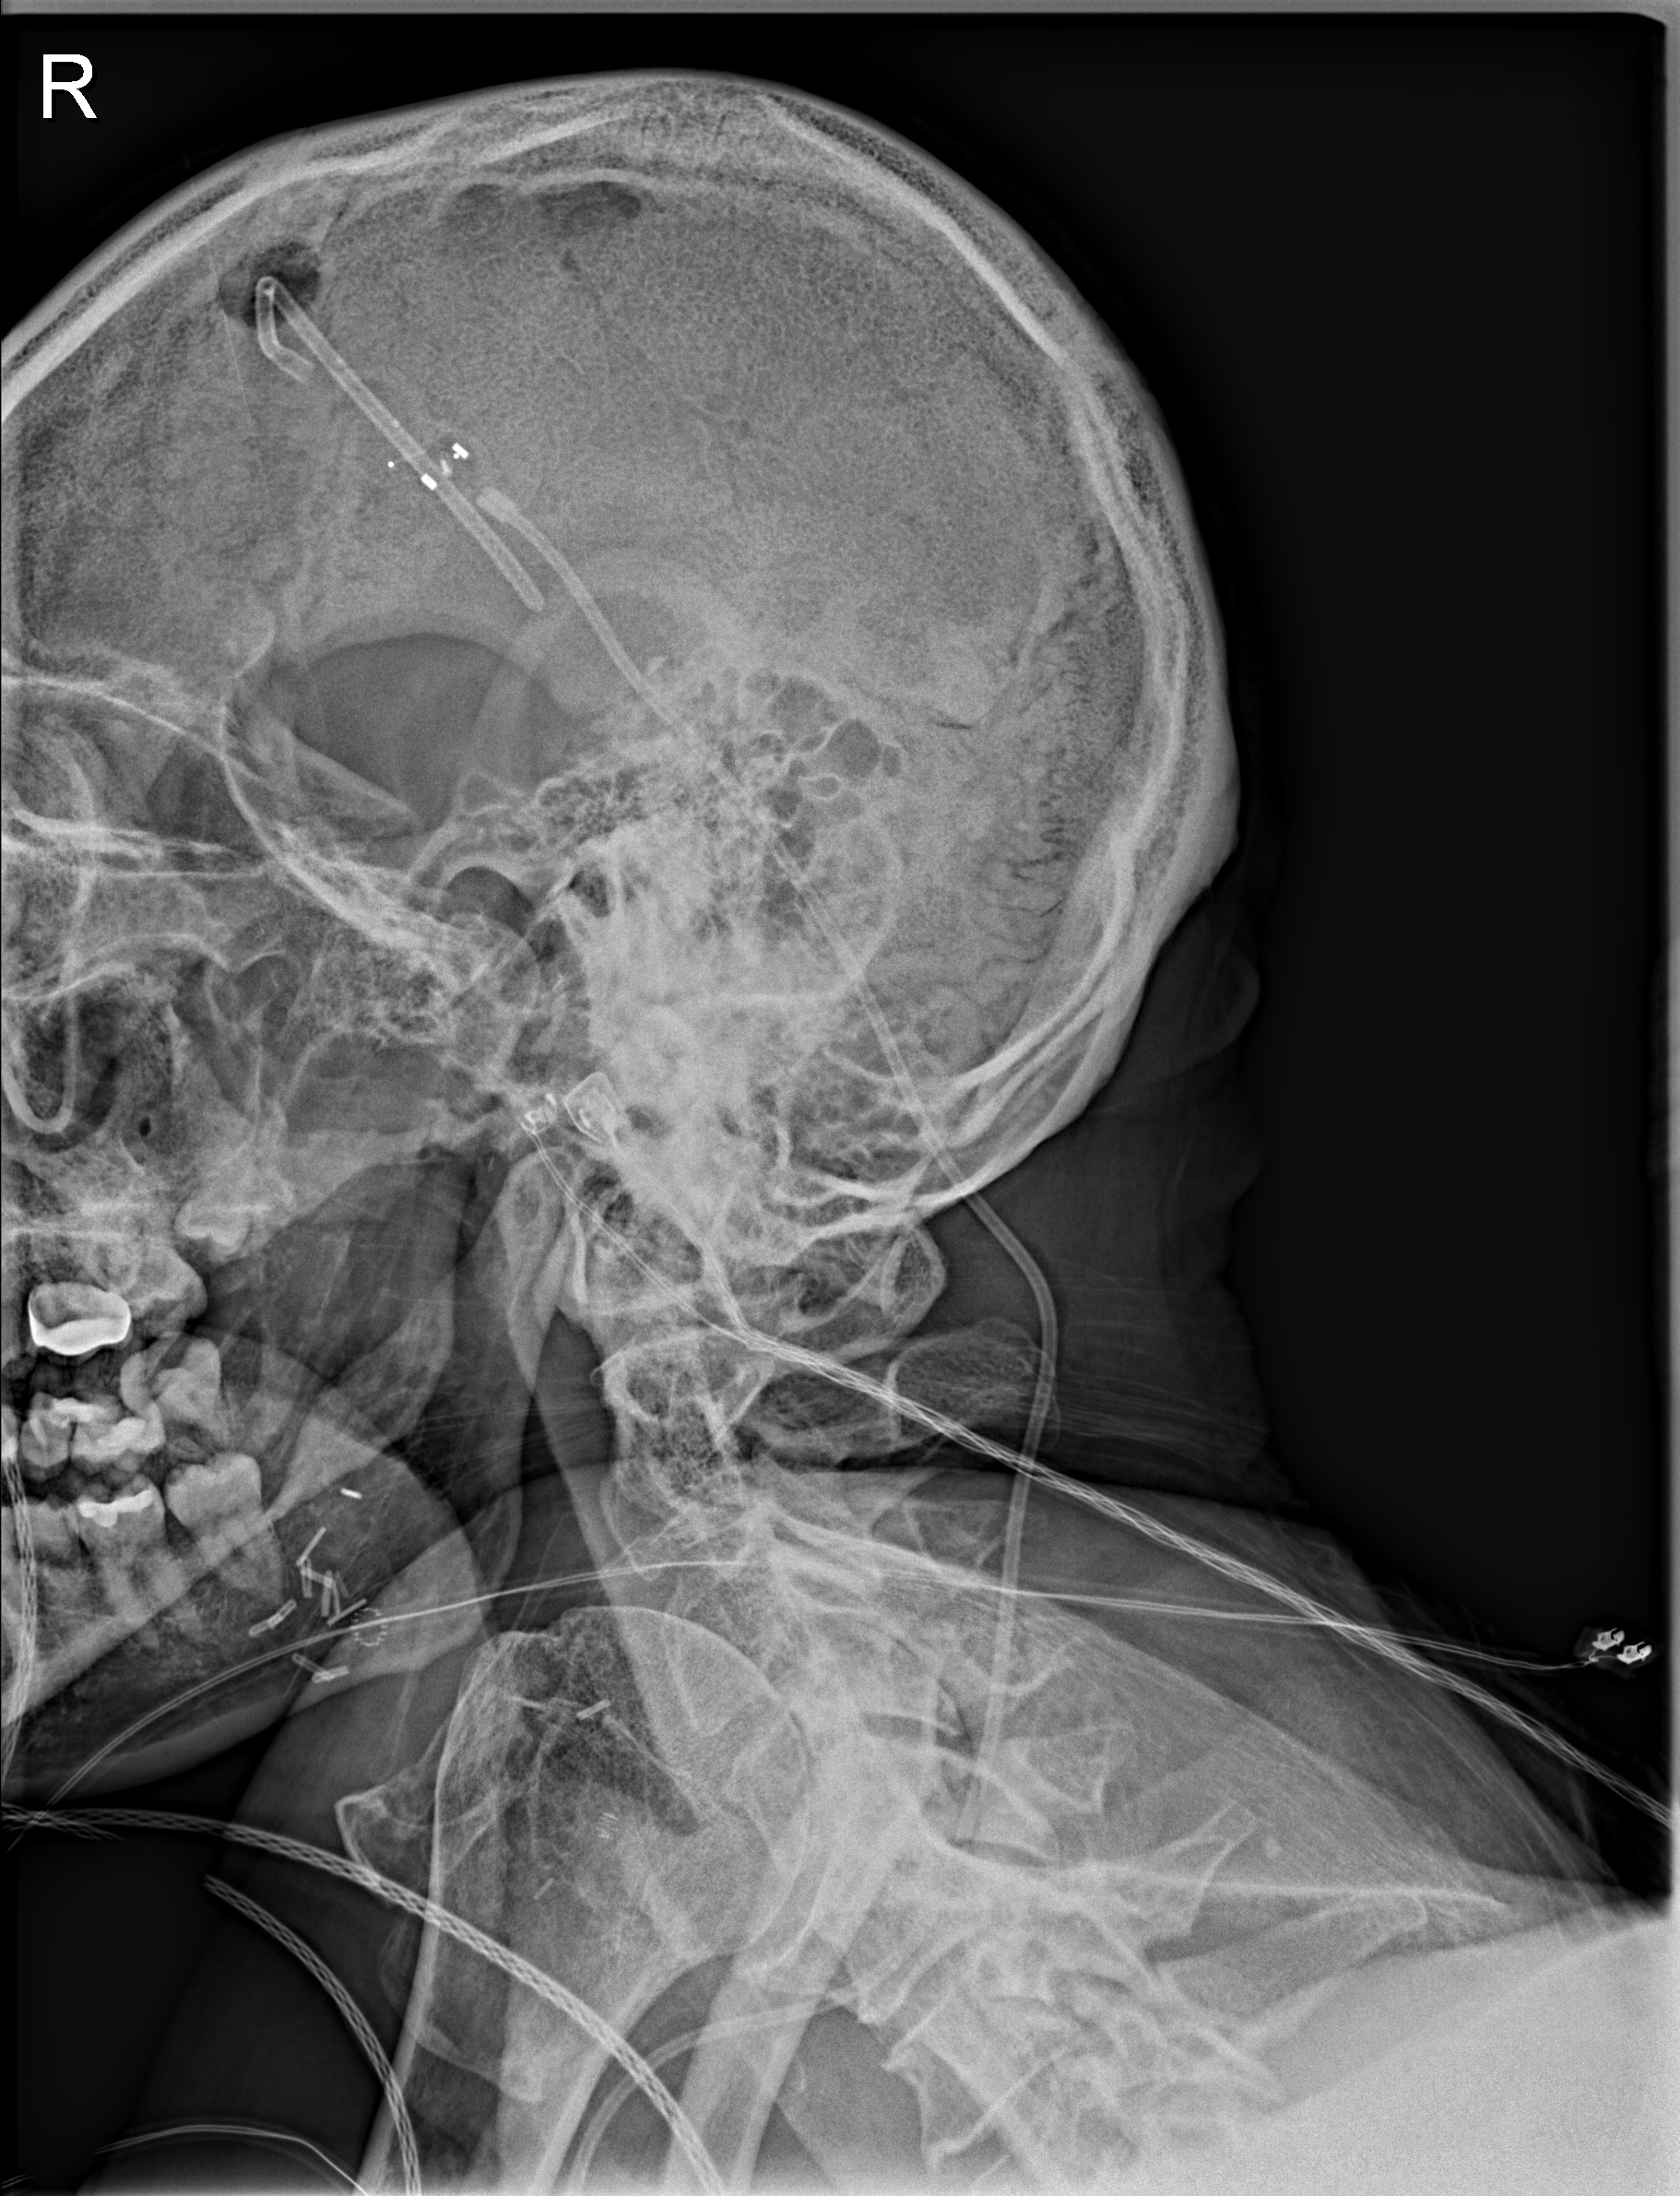Codman Certas: (379, 418, 494, 510)
